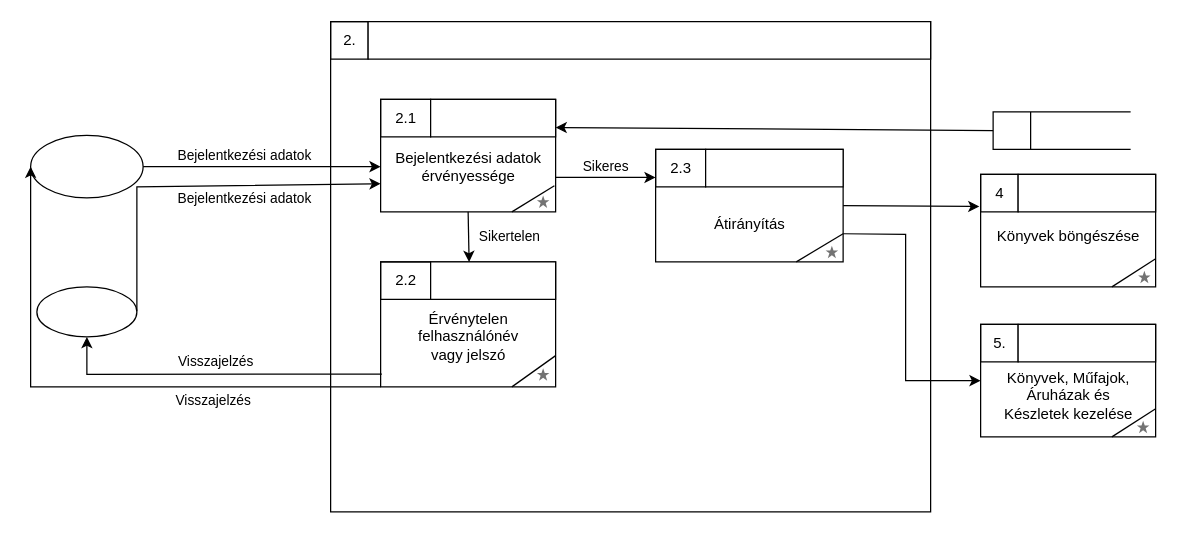
This 1179x535 diagram has some shape labels left out. The box of each missing label's shape, as (x1, y1, x2, y2) in pixels:
Admin: (36, 286, 137, 337)
L2 Felhasználók: (992, 111, 1131, 149)
Látogató: (29, 134, 143, 198)
